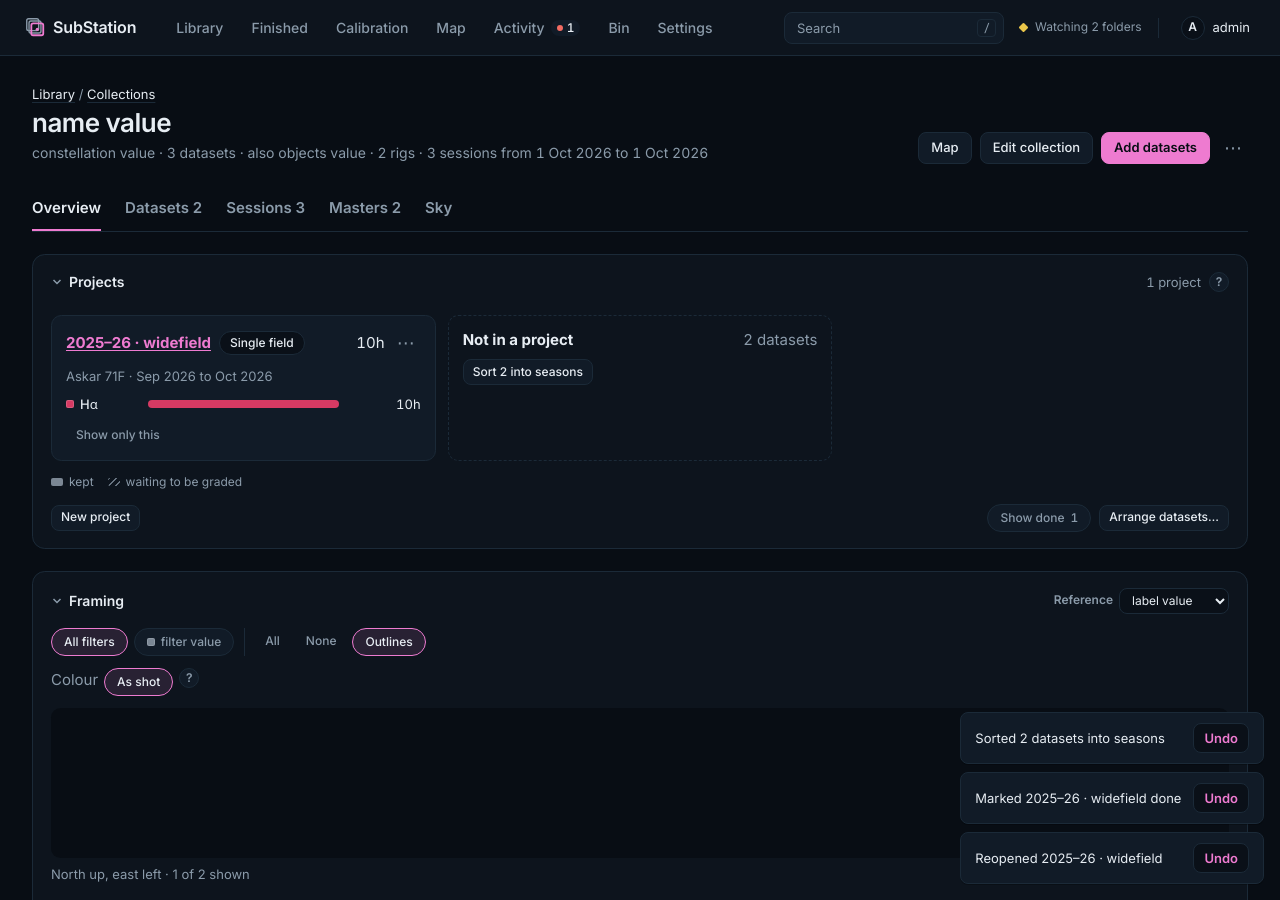
Test: Projects panel (amendment 2026-10-22) › offers to archive the files once the last open project is done
The image size is (1280, 900).
Expected: the link "2025–26 · widefield" is shown, left=66, top=333, right=211, bottom=352
What coordinates should you click on to do the following:
click the button named "More for 2025–26 · widefield"
I would click on:
 (406, 343)
Its box is left=391, top=328, right=421, bottom=358.
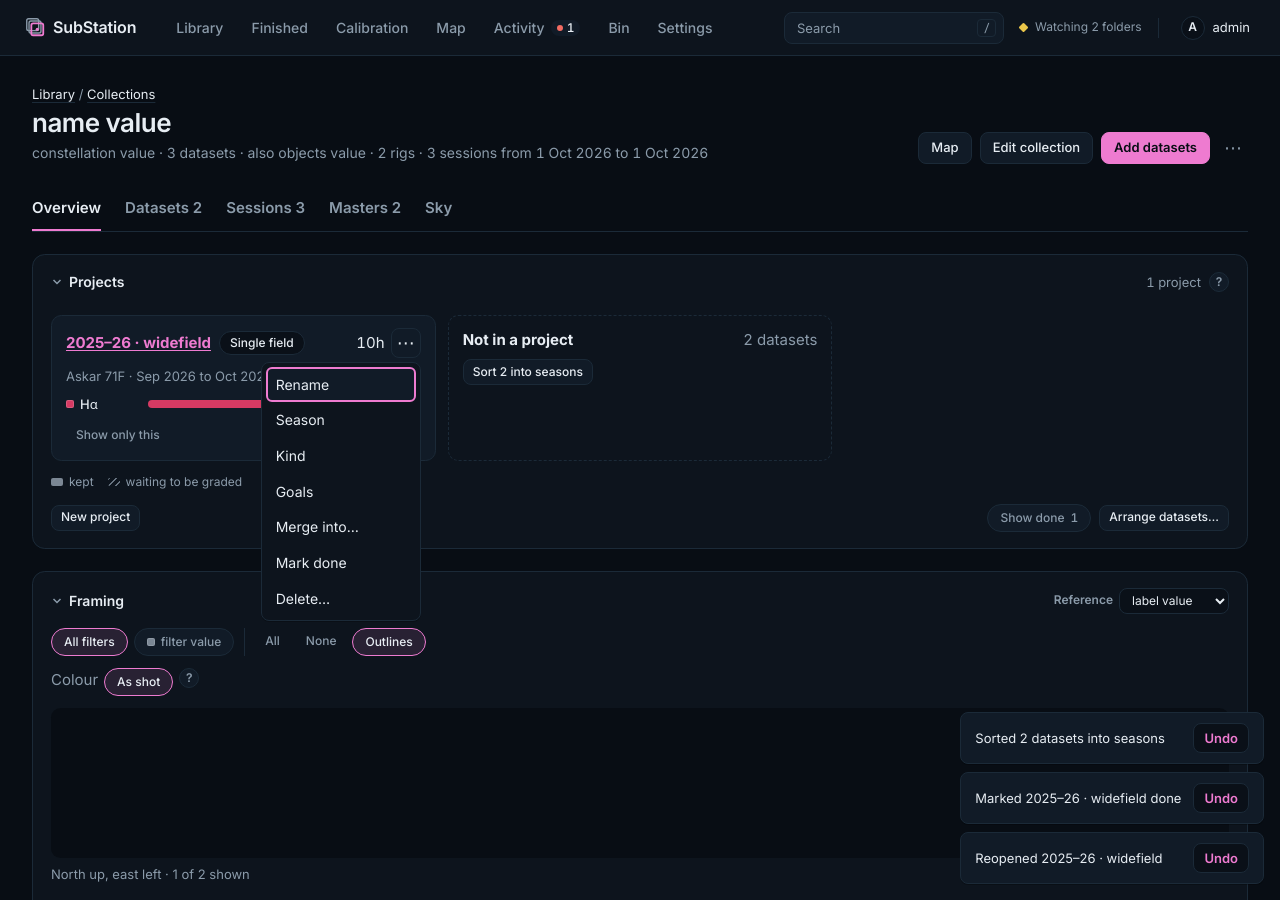
What coordinates should you click on to do the following:
click the menu item "Mark done"
I would click on:
 (341, 563)
Its box is left=266, top=545, right=416, bottom=581.
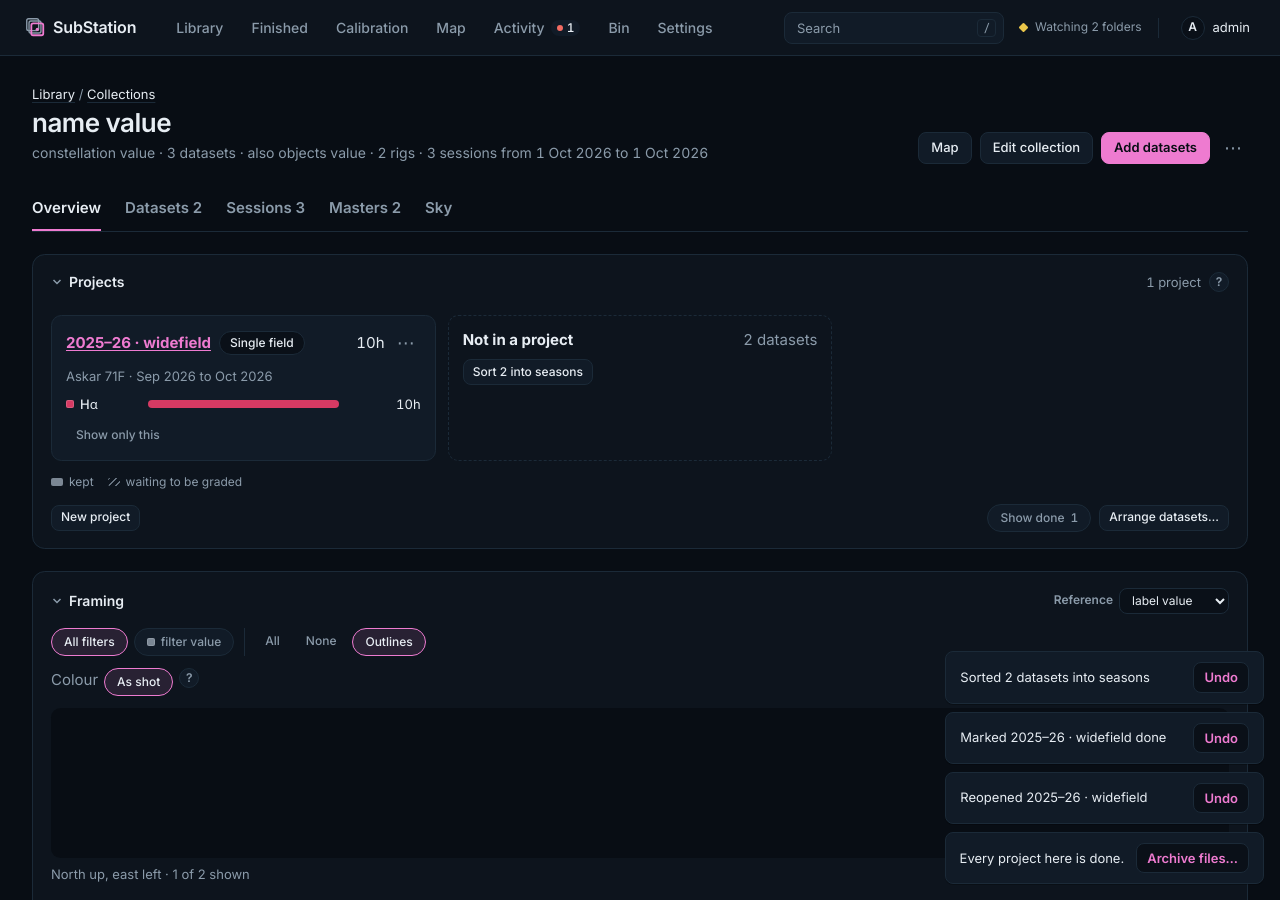
What coordinates should you click on to do the following:
click the button "Archive files…"
I would click on:
 (1193, 858)
Its box is left=1136, top=843, right=1249, bottom=873.
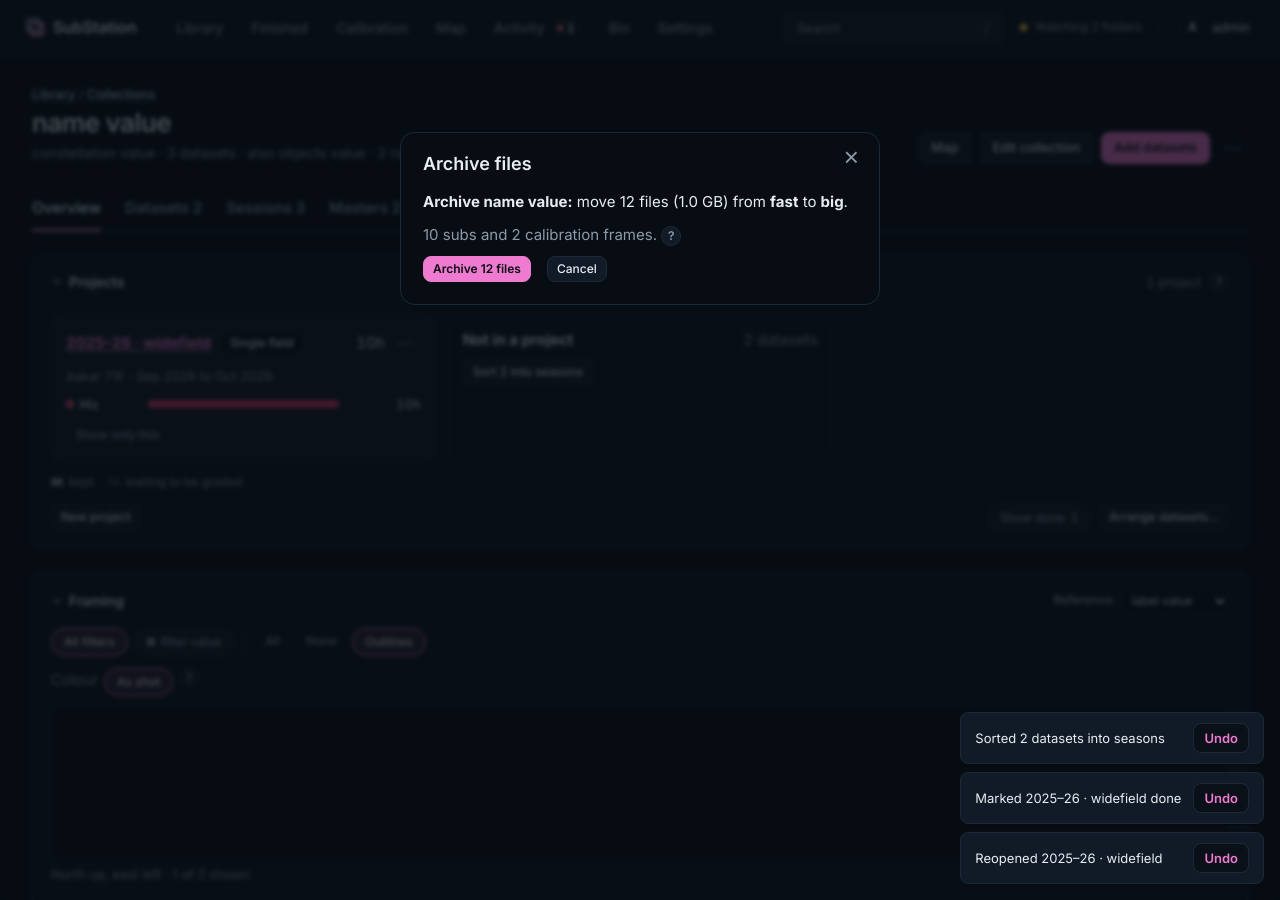
Now the button "Archive 12 files" is shown, box left=423, top=256, right=531, bottom=282
